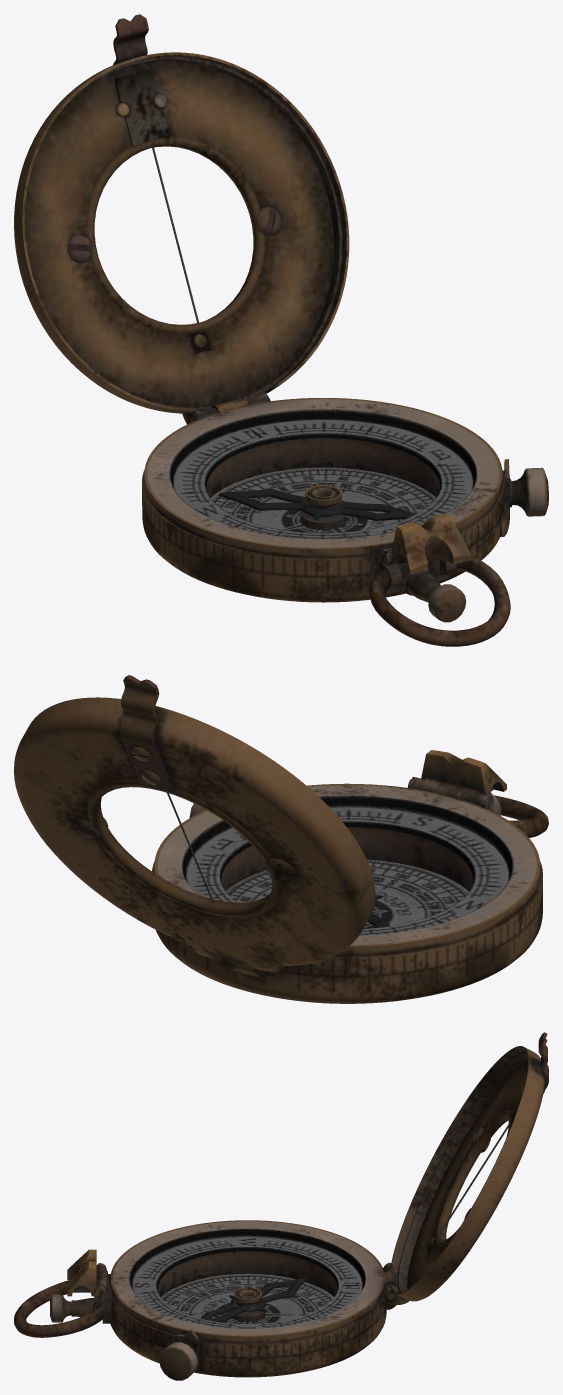
File: compass.glb
3 views of the same model, one above another, from view 1: azimuth 30°, elevation 25°; view 2: azimuth 150°, elevation 25°; view 3: azimuth 270°, elevation 25° (orthographic). The views are drawn at different scales.
Visible parts, largest first — view 1: seadogs_compass_lid, seadogs_compass, seadogs_compass_needle; view 2: seadogs_compass_lid, seadogs_compass; view 3: seadogs_compass, seadogs_compass_lid, seadogs_compass_needle.
Part boxes in pixels (x1,y1,x2,y2): seadogs_compass_lid: [14, 14, 349, 424]; seadogs_compass: [142, 398, 548, 646]; seadogs_compass_needle: [219, 488, 415, 520]; seadogs_compass_lid: [14, 675, 375, 972]; seadogs_compass: [152, 750, 548, 1003]; seadogs_compass: [14, 1220, 397, 1380]; seadogs_compass_lid: [382, 1032, 548, 1305]; seadogs_compass_needle: [201, 1278, 306, 1322].
Size of the model in its own units: 0.0813 by 0.0866 by 0.1441.
1 material, 1 textured.
